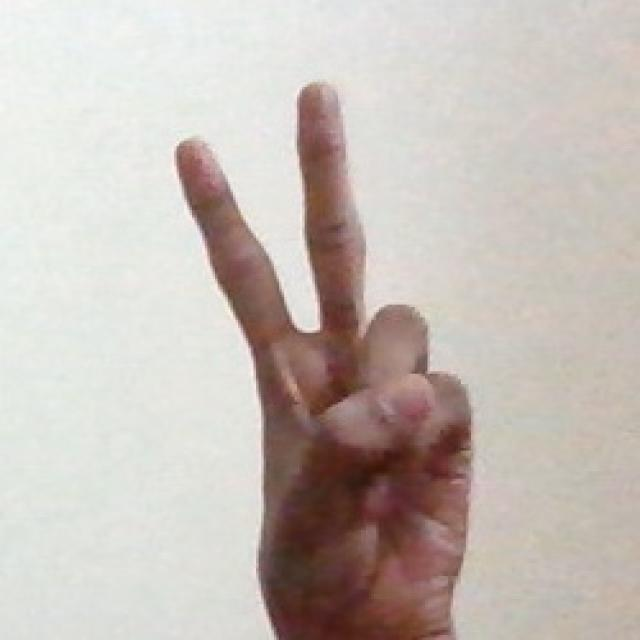Numeric-2: (168, 70, 470, 629)
